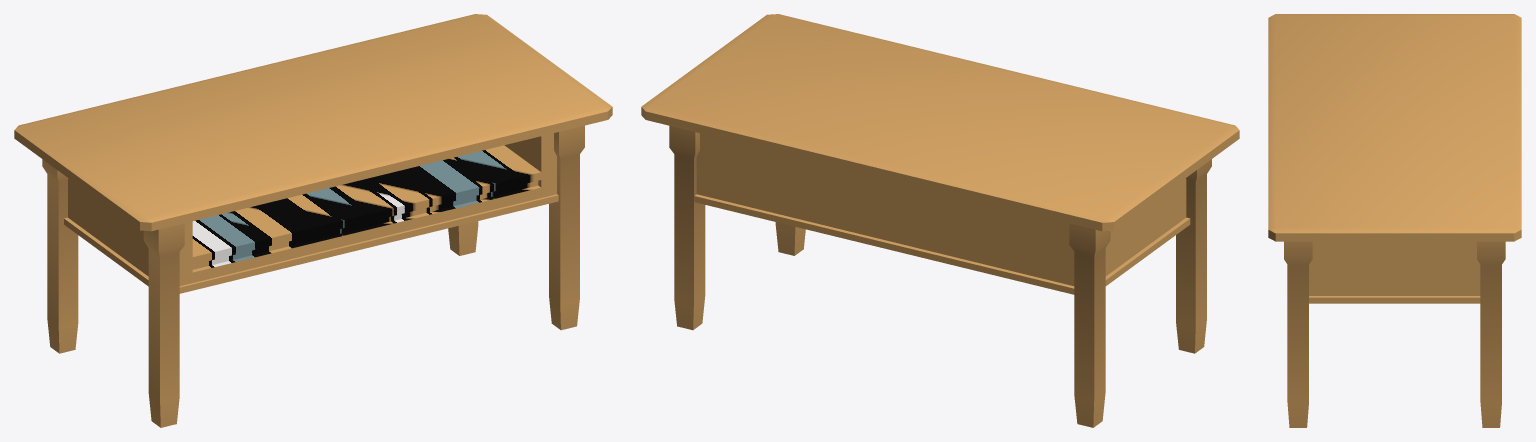
File: Table_Z.fbx
3 views of the same model, side by side, from view 1: azimuth 30°, elevation 25°; view 2: azimuth 150°, elevation 25°; view 3: azimuth 270°, elevation 25° (orthographic). The views are drawn at different scales.
Parts seen in each view (by area): view 1: Table_Z, Table_Z_Drawer; view 2: Table_Z; view 3: Table_Z.
Boxes of the visible parts, x1,y1,x2,y2 form: Table_Z: [14, 14, 612, 427]; Table_Z_Drawer: [192, 145, 541, 269]; Table_Z: [641, 14, 1239, 427]; Table_Z: [1268, 14, 1521, 427].
Bounding box in the file's own units: 162 × 72.3 × 79.06.
